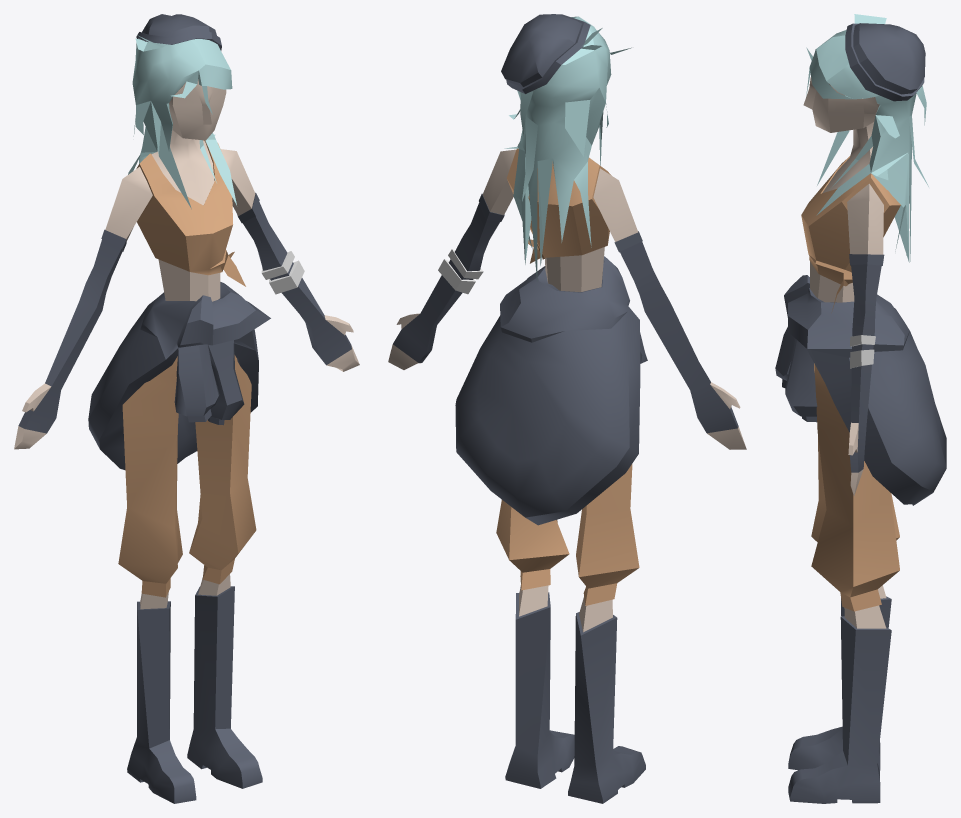
Rendered from Main_character (1).fbx.
The picture shows the model from 3 angles, left to right: view 1: azimuth 30°, elevation 25°; view 2: azimuth 150°, elevation 25°; view 3: azimuth 270°, elevation 25°; orthographic projection. The views are drawn at different scales.
Visible parts, largest first — view 1: Main_Char, Hoodie; view 2: Main_Char, Hoodie; view 3: Main_Char, Hoodie.
Part boxes in pixels (x1,y1,x2,y2): Main_Char: (14,14,359,803); Hoodie: (88,282,270,469); Main_Char: (388,14,746,803); Hoodie: (455,256,647,525); Main_Char: (788,14,928,803); Hoodie: (775,275,946,505).
Size of the model in its own units: 83.57 by 171 by 35.27.
